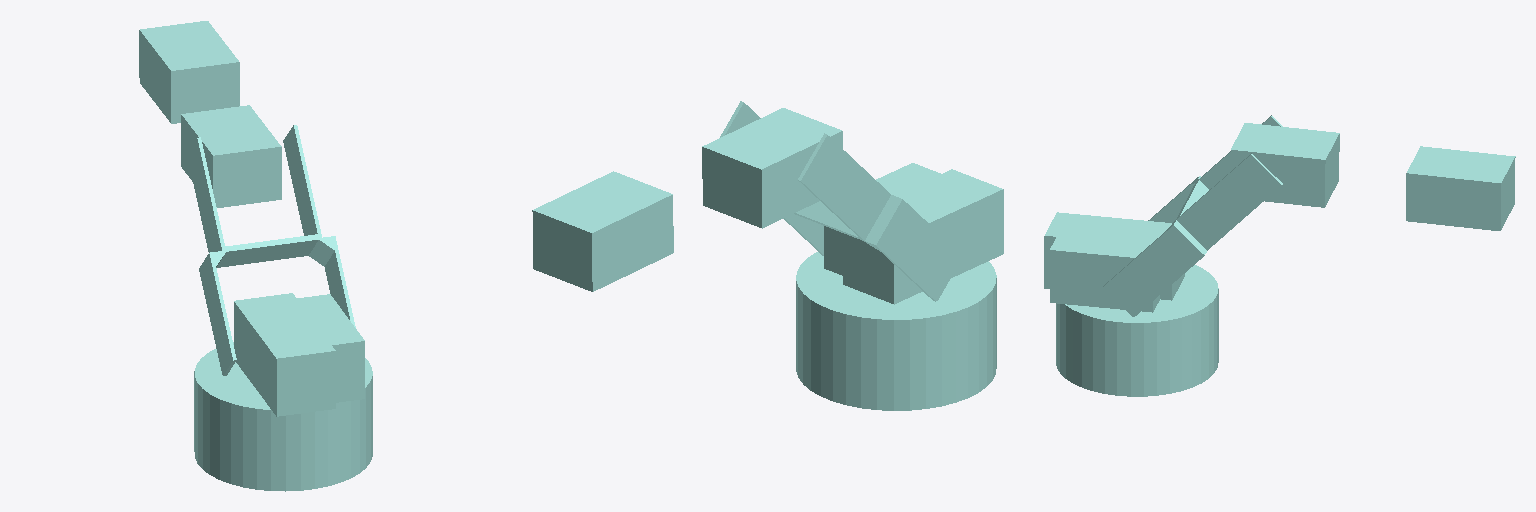
The robot description file, URDF, robot "collisional.SLDASM":
<?xml version="1.0" encoding="utf-8"?>
<!-- This URDF was automatically created by SolidWorks to URDF Exporter! Originally created by [author] ([email redacted]) 
     Commit Version: 1.6.0-4-g7f85cfe  Build Version: 1.6.7995.38578
     For more information, please see http://wiki.ros.org/sw_urdf_exporter -->
<robot
  name="collisional.SLDASM">
  <link
    name="base_link_Collision">
    <inertial>
      <origin
        xyz="9.71445146547012E-17 -1.17961196366423E-16 0.023"
        rpy="0 0 0" />
      <mass
        value="0.311905863780412" />
      <inertia
        ixx="0.000219997602586451"
        ixy="0"
        ixz="-6.37707525078414E-37"
        iyy="0.000219997602586451"
        iyz="1.13668816985777E-36"
        izz="0.000329996403879676" />
    </inertial>
    <visual>
      <origin
        xyz="0 0 0"
        rpy="0 0 0" />
      <geometry>
        <mesh
          filename="package://collisional.SLDASM/meshes/base_link_Collision.STL" />
      </geometry>
      <material
        name="">
        <color
          rgba="0.72156862745098 0.952941176470588 0.929411764705882 0.1" />
      </material>
    </visual>
    <collision>
      <origin
        xyz="0 0 0"
        rpy="0 0 0" />
      <geometry>
        <mesh
          filename="package://collisional.SLDASM/meshes/base_link_Collision.STL" />
      </geometry>
    </collision>
  </link>
  <link
    name="link_1_Collision">
    <inertial>
      <origin
        xyz="0.000902385105582562 -0.0145530375158418 0.0205"
        rpy="0 0 0" />
      <mass
        value="0.11605968" />
      <inertia
        ixx="5.66790779007093E-05"
        ixy="-5.07600236226904E-06"
        ixz="-4.43936843170467E-22"
        iyy="3.50515496888963E-05"
        iyz="2.23970914603717E-21"
        izz="7.06657956696056E-05" />
    </inertial>
    <visual>
      <origin
        xyz="0 0 0"
        rpy="0 0 0" />
      <geometry>
        <mesh
          filename="package://collisional.SLDASM/meshes/link_1_Collision.STL" />
      </geometry>
      <material
        name="">
        <color
          rgba="0.72156862745098 0.952941176470588 0.929411764705882 0.1" />
      </material>
    </visual>
    <collision>
      <origin
        xyz="0 0 0"
        rpy="0 0 0" />
      <geometry>
        <mesh
          filename="package://collisional.SLDASM/meshes/link_1_Collision.STL" />
      </geometry>
    </collision>
  </link>
  <joint
    name="Joint_1"
    type="revolute">
    <origin
      xyz="0 0 0.0425"
      rpy="0 0 0" />
    <parent
      link="base_link_Collision" />
    <child
      link="link_1_Collision" />
    <axis
      xyz="0 0 -1" />
    <limit
      lower="0"
      upper="0"
      effort="0"
      velocity="0" />
  </joint>
  <link
    name="link_2_Collision">
    <inertial>
      <origin
        xyz="-0.0270050929569739 0.0400293862912153 0.0346783930427046"
        rpy="0 0 0" />
      <mass
        value="0.0178501246164501" />
      <inertia
        ixx="1.66723622179936E-05"
        ixy="1.1125292833653E-06"
        ixz="-1.58371082472772E-06"
        iyy="2.14125606547208E-05"
        iyz="-7.10099052915546E-06"
        izz="2.1023468343166E-05" />
    </inertial>
    <visual>
      <origin
        xyz="0 0 0"
        rpy="0 0 0" />
      <geometry>
        <mesh
          filename="package://collisional.SLDASM/meshes/link_2_Collision.STL" />
      </geometry>
      <material
        name="">
        <color
          rgba="0.72156862745098 0.952941176470588 0.929411764705882 0.1" />
      </material>
    </visual>
    <collision>
      <origin
        xyz="0 0 0"
        rpy="0 0 0" />
      <geometry>
        <mesh
          filename="package://collisional.SLDASM/meshes/link_2_Collision.STL" />
      </geometry>
    </collision>
  </link>
  <joint
    name="Joint_2"
    type="revolute">
    <origin
      xyz="0.038579 -0.0025906 0.020463"
      rpy="0 0 0" />
    <parent
      link="link_1_Collision" />
    <child
      link="link_2_Collision" />
    <axis
      xyz="0.97602 -0.21768 0" />
    <limit
      lower="0"
      upper="0"
      effort="0"
      velocity="0" />
  </joint>
  <link
    name="link_3_Collision">
    <inertial>
      <origin
        xyz="0.0184388382508009 0.00687565704872592 -0.00266289458383204"
        rpy="0 0 0" />
      <mass
        value="0.062271" />
      <inertia
        ixx="1.99607367230688E-05"
        ixy="-1.82520496186126E-06"
        ixz="3.63865956379553E-08"
        iyy="1.21840122482302E-05"
        iyz="1.63149021260093E-07"
        izz="2.2799030028701E-05" />
    </inertial>
    <visual>
      <origin
        xyz="0 0 0"
        rpy="0 0 0" />
      <geometry>
        <mesh
          filename="package://collisional.SLDASM/meshes/link_3_Collision.STL" />
      </geometry>
      <material
        name="">
        <color
          rgba="0.72156862745098 0.952941176470588 0.929411764705882 0.1" />
      </material>
    </visual>
    <collision>
      <origin
        xyz="0 0 0"
        rpy="0 0 0" />
      <geometry>
        <mesh
          filename="package://collisional.SLDASM/meshes/link_3_Collision.STL" />
      </geometry>
    </collision>
  </link>
  <joint
    name="Joint_3"
    type="revolute">
    <origin
      xyz="-0.039793 0.079162 0.070736"
      rpy="0 0 0" />
    <parent
      link="link_2_Collision" />
    <child
      link="link_3_Collision" />
    <axis
      xyz="0.97602 -0.21768 0" />
    <limit
      lower="0"
      upper="0"
      effort="0"
      velocity="0" />
  </joint>
  <link
    name="link_4_collision">
    <inertial>
      <origin
        xyz="-0.0223596624709538 -0.0152678652753939 -0.00020031664045575"
        rpy="0 0 0" />
      <mass
        value="0.062271" />
      <inertia
        ixx="1.99607367230688E-05"
        ixy="-1.82520496186119E-06"
        ixz="3.63865956427863E-08"
        iyy="1.21840122482302E-05"
        iyz="1.63149021259015E-07"
        izz="2.2799030028701E-05" />
    </inertial>
    <visual>
      <origin
        xyz="0 0 0"
        rpy="0 0 0" />
      <geometry>
        <mesh
          filename="package://collisional.SLDASM/meshes/link_4_collision.STL" />
      </geometry>
      <material
        name="">
        <color
          rgba="0.72156862745098 0.952941176470588 0.929411764705882 0.1" />
      </material>
    </visual>
    <collision>
      <origin
        xyz="0 0 0"
        rpy="0 0 0" />
      <geometry>
        <mesh
          filename="package://collisional.SLDASM/meshes/link_4_collision.STL" />
      </geometry>
    </collision>
  </link>
  <joint
    name="Joint-4"
    type="revolute">
    <origin
      xyz="0.0732012863045425 0.121490794488247 -0.00203949398634158"
      rpy="0 0 0" />
    <parent
      link="link_3_Collision" />
    <child
      link="link_4_collision" />
    <axis
      xyz="-0.976020488637168 0.217678675483987 0" />
    <limit
      lower="0"
      upper="0"
      effort="0"
      velocity="0" />
  </joint>
</robot>

--- What the picture shows (computed from the rendered views, not written in the file) ---
Views: 3 orthographic renders of the robot side by side, from view 1: azimuth 30°, elevation 25°; view 2: azimuth 150°, elevation 25°; view 3: azimuth 270°, elevation 25°.
Model collisional.SLDASM with 5 links and 4 joints (4 revolute), rooted at base_link_Collision, posed every joint at zero.
Visible links, largest first — view 1: base_link_Collision, link_1_Collision, link_2_Collision, link_4_collision, link_3_Collision; view 2: base_link_Collision, link_4_collision, link_2_Collision, link_1_Collision, link_3_Collision; view 3: base_link_Collision, link_2_Collision, link_1_Collision, link_4_collision, link_3_Collision.
Link boxes in pixels (<box>): base_link_Collision: <box>194,342,372,491</box>; link_1_Collision: <box>234,293,364,416</box>; link_2_Collision: <box>187,125,355,375</box>; link_4_collision: <box>139,21,239,123</box>; link_3_Collision: <box>181,105,281,207</box>; base_link_Collision: <box>796,252,996,410</box>; link_4_collision: <box>532,171,673,291</box>; link_2_Collision: <box>720,101,962,301</box>; link_1_Collision: <box>824,163,1003,304</box>; link_3_Collision: <box>702,108,842,228</box>; base_link_Collision: <box>1056,265,1218,396</box>; link_2_Collision: <box>1103,115,1282,316</box>; link_1_Collision: <box>1044,212,1184,312</box>; link_4_collision: <box>1406,146,1515,230</box>; link_3_Collision: <box>1230,123,1339,207</box>.
Size in the robot's own frame: 0.1196 by 0.2663 by 0.1507 metres.
5 mesh visuals loaded from 5 distinct referenced files (5 binary STL).